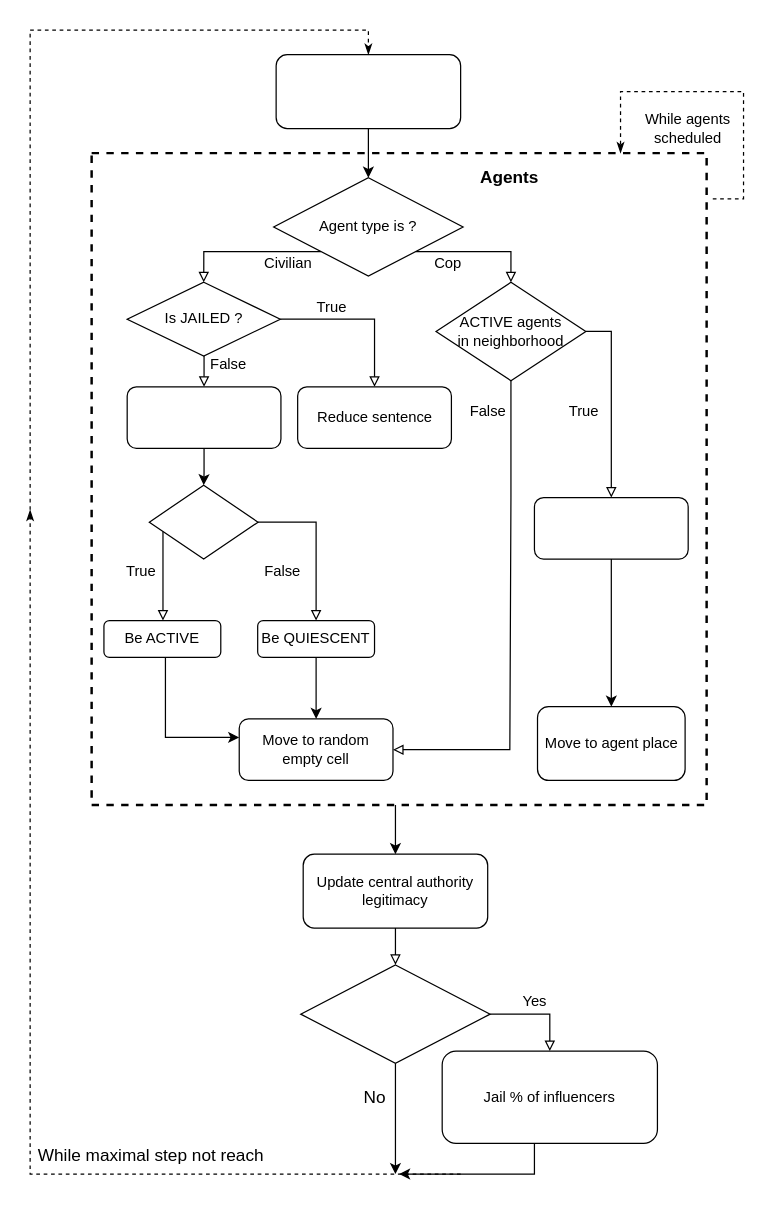
The diagram is 775 pixels wide and 1205 high, and some of its shapes have lost their labels. Here are the shapes that lost their labels. From the top down, the box of each, then its label:
(275, 54, 461, 129): Get all agents
(126, 386, 281, 448): Update Hardship Update Grievance
(148, 484, 258, 559): G - N > T
(533, 496, 688, 559): Jail ACTIVE agent
(300, 964, 490, 1063): Active agents > 30
